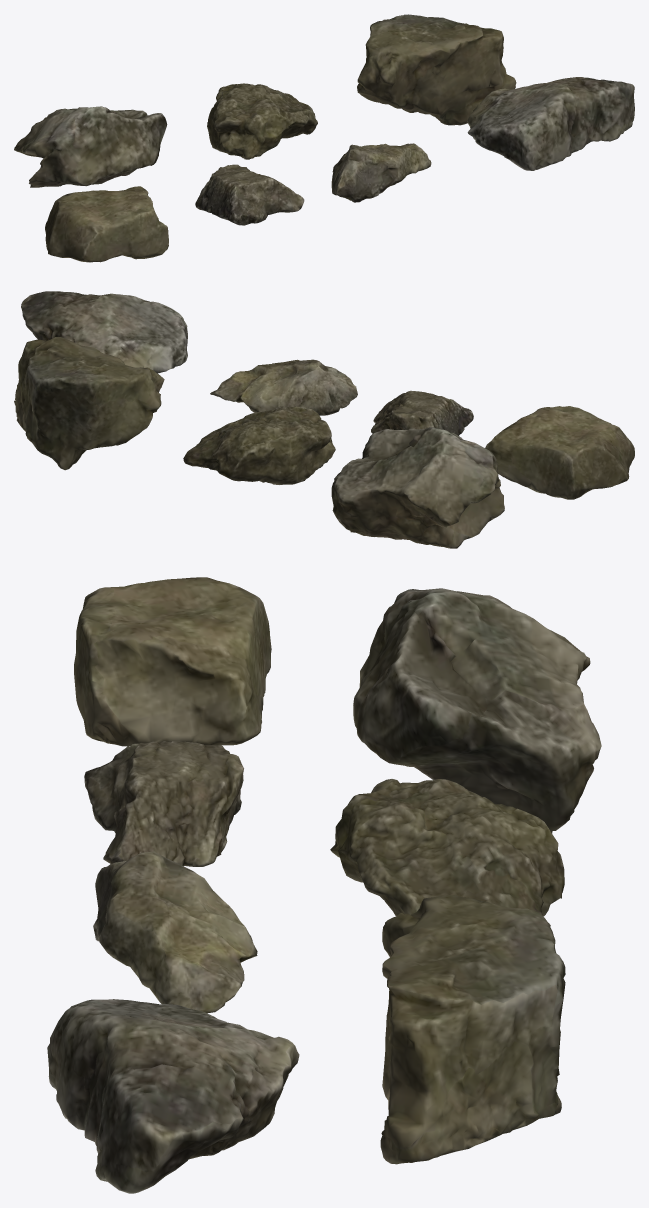
Rendered from rock_moss_set_02_1k.glb.
3 views of the same model, one above another, from view 1: azimuth 30°, elevation 25°; view 2: azimuth 150°, elevation 25°; view 3: azimuth 270°, elevation 25° (orthographic). The views are drawn at different scales.
Parts seen in each view (by area): view 1: rock_moss_set_02_rock08; view 2: rock_moss_set_02_rock08; view 3: rock_moss_set_02_rock08.
Boxes of the visible parts, bbox=[...] form: rock_moss_set_02_rock08: bbox=[14, 14, 634, 262]; rock_moss_set_02_rock08: bbox=[14, 291, 634, 548]; rock_moss_set_02_rock08: bbox=[47, 577, 601, 1193].
Bounding box in the file's own units: 8.28 × 1.37 × 3.41.
1 material, 1 textured.
